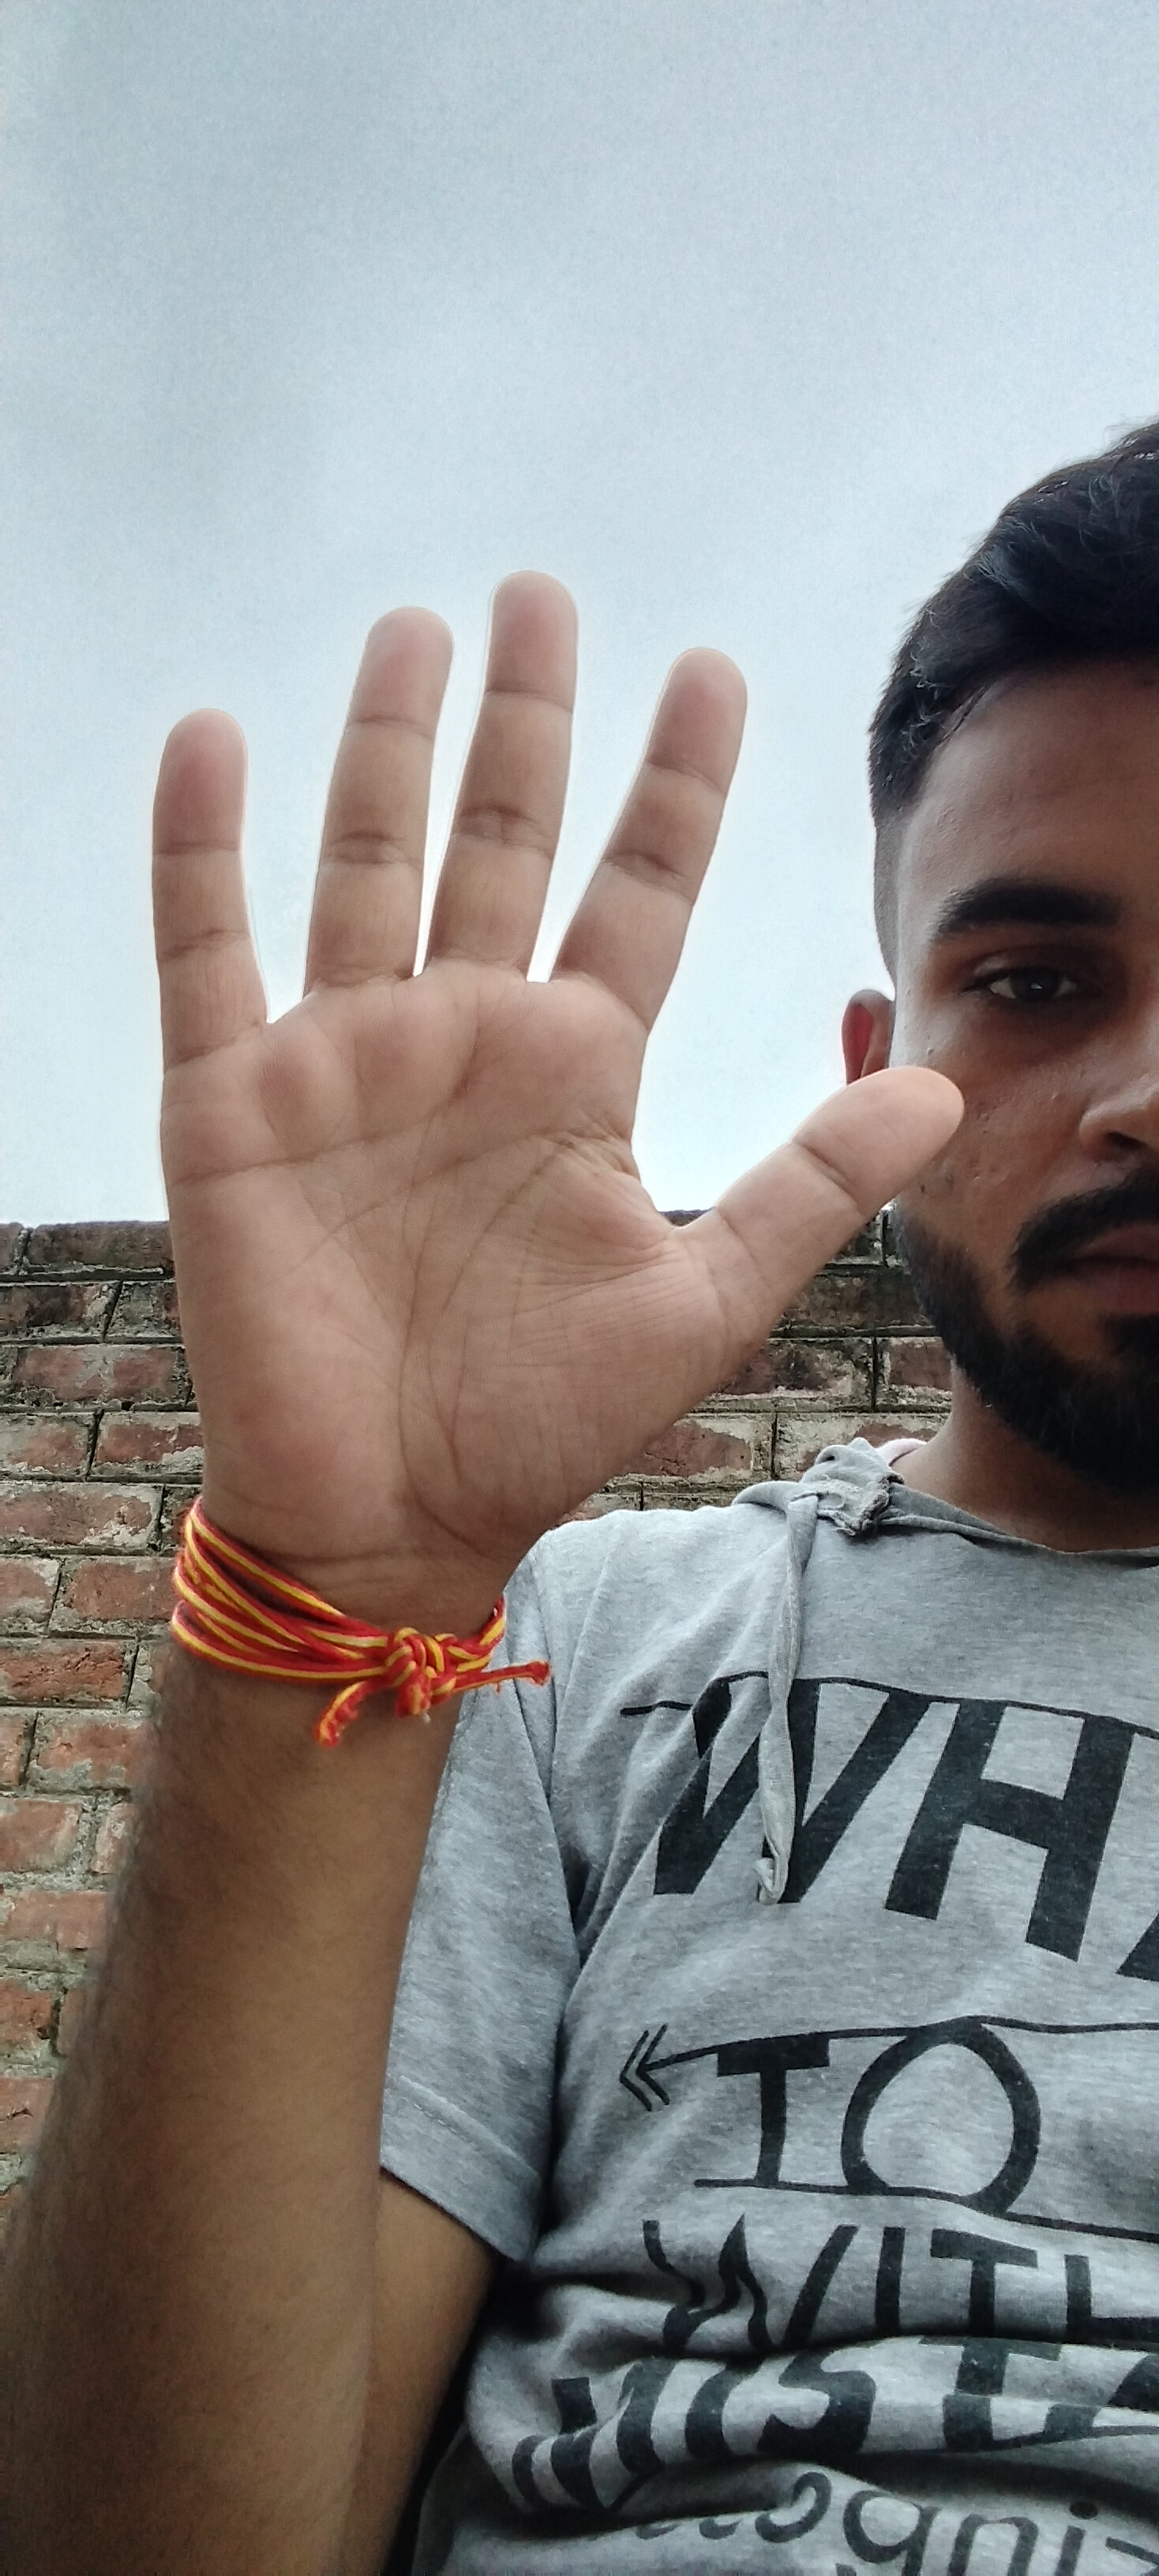Hello: (132, 557, 978, 1628)
